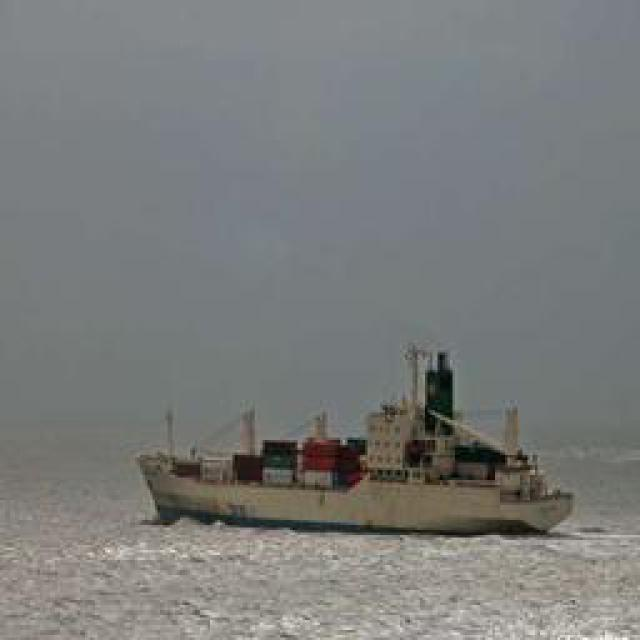Ship: (140, 390, 573, 540)
